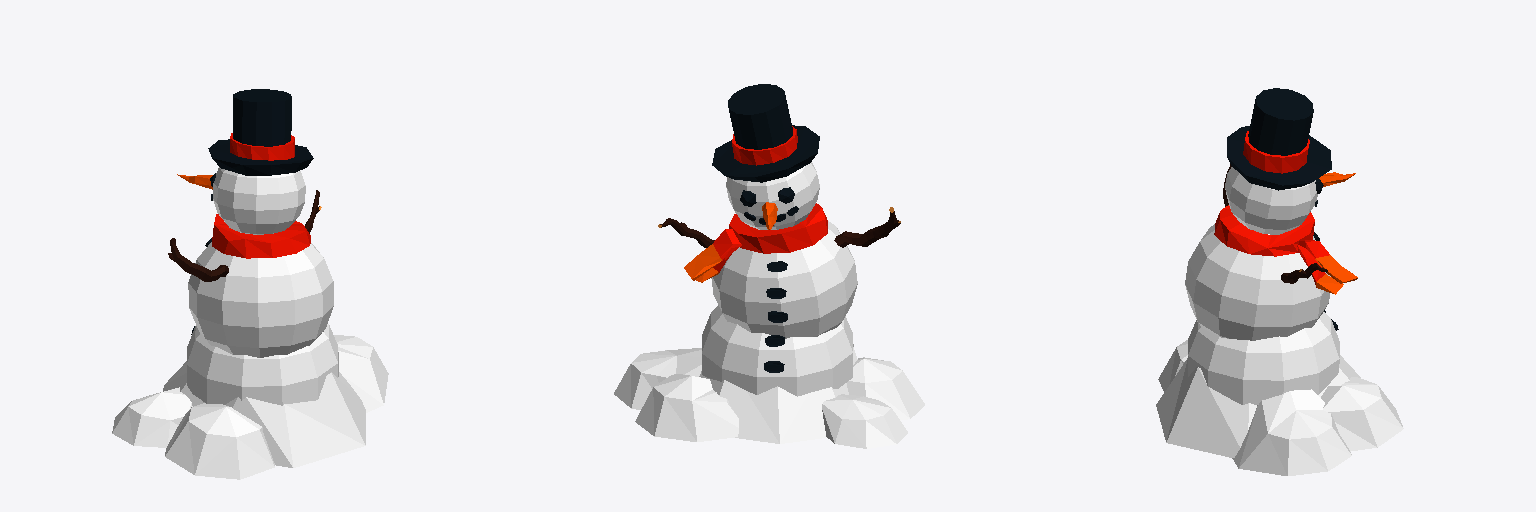
The picture shows the model from 3 angles: view 1: azimuth 30°, elevation 25°; view 2: azimuth 150°, elevation 25°; view 3: azimuth 270°, elevation 25°; orthographic projection.
Visible parts, largest first — view 1: group[number redacted], group[number redacted], group[number redacted], group[number redacted], group[number redacted], group[number redacted], group[number redacted], group[number redacted], group[number redacted], group[number redacted], group[number redacted], group[number redacted]; view 2: group[number redacted], group[number redacted], group[number redacted], group[number redacted], group[number redacted], group[number redacted], group[number redacted], group[number redacted], group[number redacted], group[number redacted], group[number redacted], group[number redacted] (+2 smaller); view 3: group[number redacted], group[number redacted], group[number redacted], group[number redacted], group[number redacted], group[number redacted], group[number redacted], group[number redacted], group[number redacted], group[number redacted], group[number redacted], group[number redacted] (+1 smaller).
Boxes of the visible parts, box(x1,y1,x2,y2) form: group[number redacted]: box(188, 242, 333, 357); group[number redacted]: box(187, 324, 338, 405); group[number redacted]: box(163, 361, 365, 467); group[number redacted]: box(165, 403, 274, 479); group[number redacted]: box(213, 167, 305, 234); group[number redacted]: box(233, 89, 291, 146); group[number redacted]: box(112, 387, 192, 447); group[number redacted]: box(334, 335, 388, 412); group[number redacted]: box(212, 214, 310, 258); group[number redacted]: box(208, 139, 313, 175); group[number redacted]: box(230, 133, 294, 160); group[number redacted]: box(168, 238, 228, 281); group[number redacted]: box(711, 221, 857, 338); group[number redacted]: box(702, 305, 853, 396); group[number redacted]: box(635, 374, 738, 441); group[number redacted]: box(699, 347, 857, 443); group[number redacted]: box(822, 394, 907, 448); group[number redacted]: box(728, 84, 792, 149); group[number redacted]: box(726, 162, 819, 229); group[number redacted]: box(614, 348, 701, 409); group[number redacted]: box(847, 357, 924, 420); group[number redacted]: box(729, 203, 827, 253); group[number redacted]: box(712, 125, 819, 182); group[number redacted]: box(684, 229, 741, 280); group[number redacted]: box(1185, 224, 1330, 340); group[number redacted]: box(1188, 312, 1339, 405); group[number redacted]: box(1232, 389, 1351, 475); group[number redacted]: box(1156, 355, 1360, 457); group[number redacted]: box(1321, 377, 1403, 451); group[number redacted]: box(1225, 167, 1317, 234); group[number redacted]: box(1248, 88, 1313, 155); group[number redacted]: box(1227, 126, 1331, 190); group[number redacted]: box(1214, 205, 1314, 256); group[number redacted]: box(1243, 131, 1309, 173); group[number redacted]: box(1298, 240, 1357, 283); group[number redacted]: box(1158, 340, 1187, 392).
Bounding box in the file's own units: 1.07 × 1.21 × 0.8406.